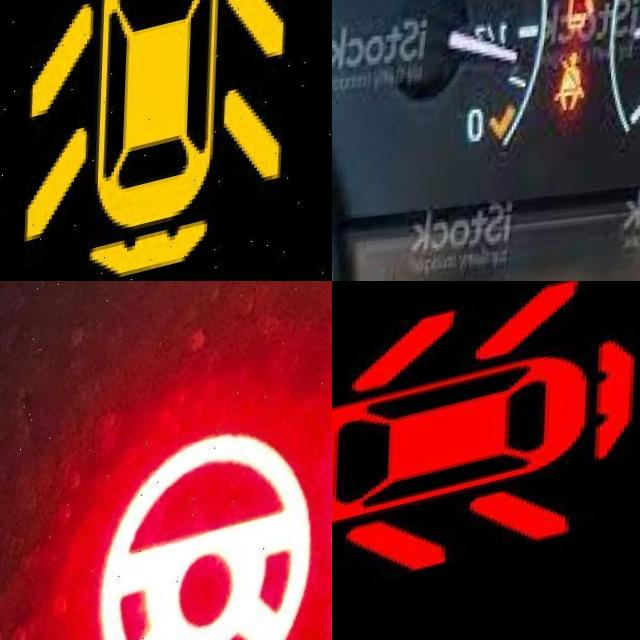Electronic Power Steering Warning: (103, 415, 332, 640)
Seat Belt: (552, 63, 589, 131)
